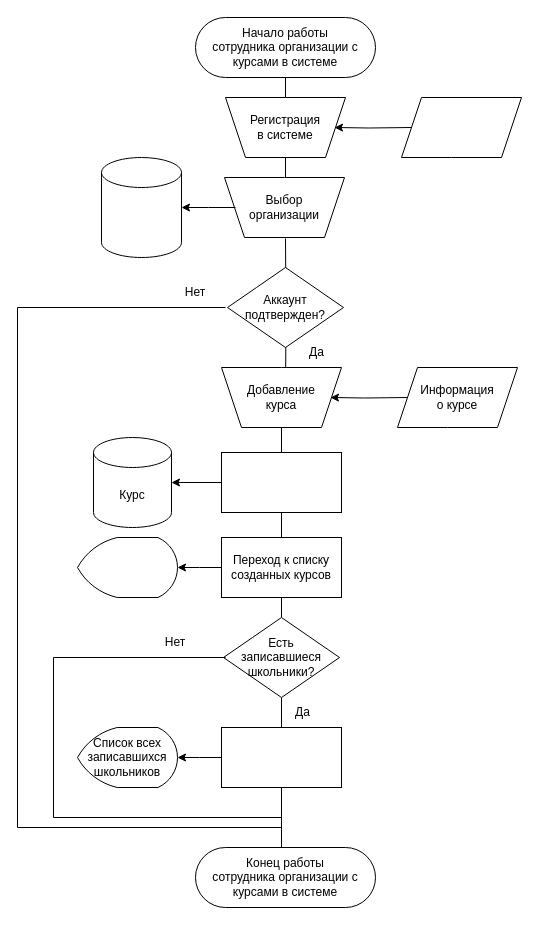
Image size: 539x925. Some labels were removed from this diagram. The shapes that lost their labels are listed below. From the top down, each one's centre as x and y in pixels, then its label:
At (x=461, y=127): "Данные для создания аккаунта".
At (x=141, y=207): "Информация о сотруднике организации".
At (x=281, y=482): "Сохранение курса".
At (x=127, y=567): "Список всех курсов организации".
At (x=281, y=757): "Переход к курсу".
